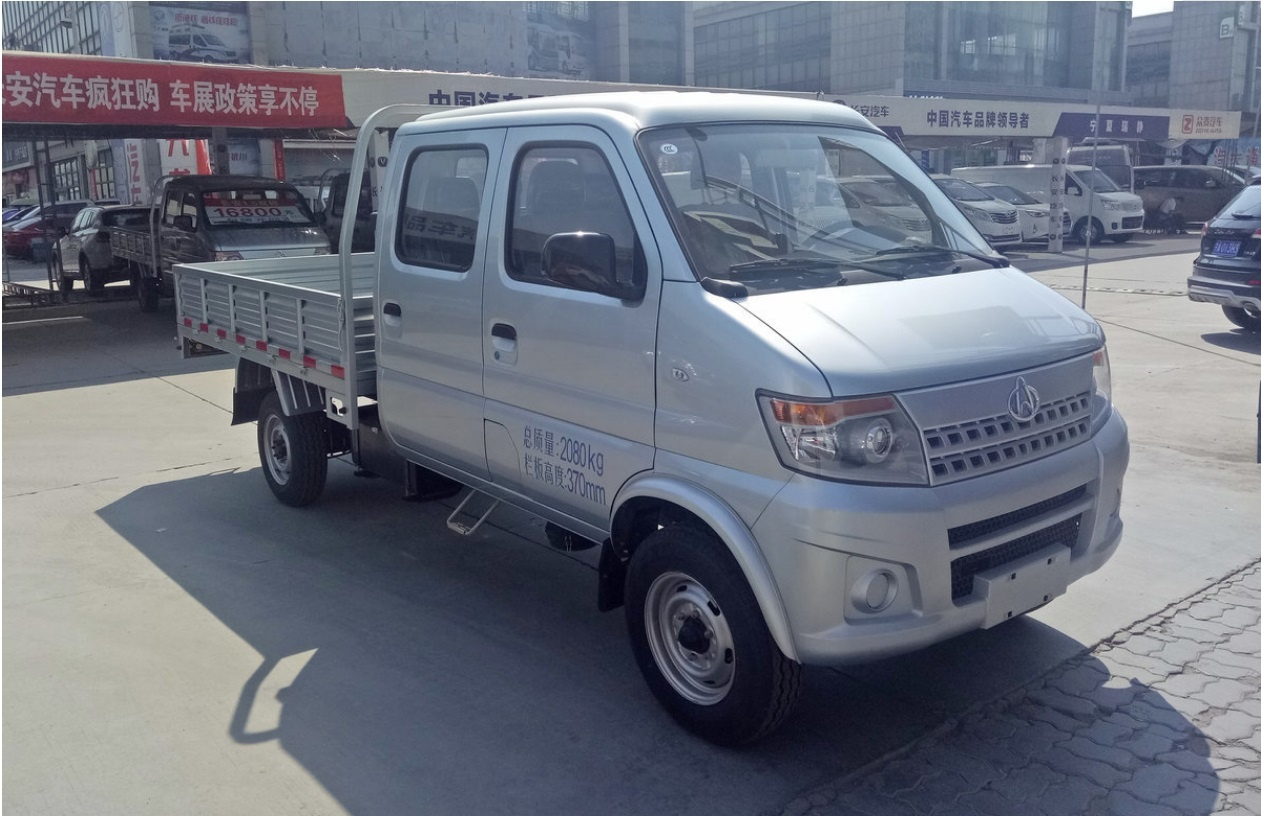truck: (172, 98, 1135, 720)
